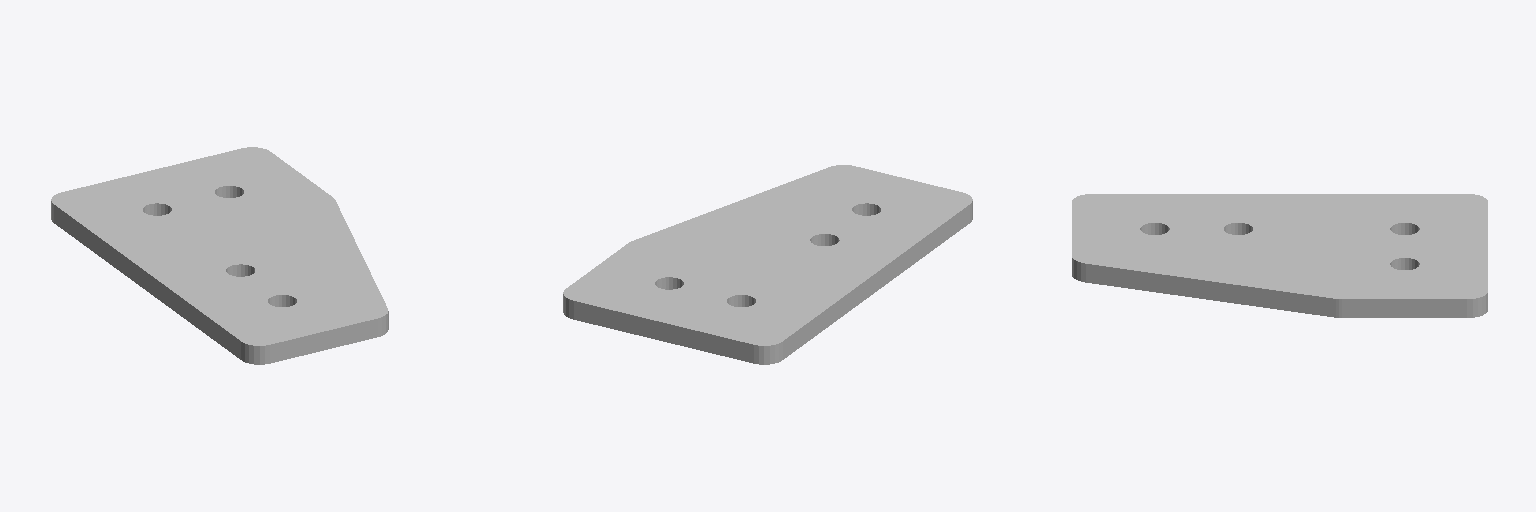
The model's file is _x1_1x1_Gusset_Plate_01__x1_1x1_Gusset_Plate.obj.
3 renders of one model, left to right at view 1: azimuth 30°, elevation 25°; view 2: azimuth 150°, elevation 25°; view 3: azimuth 270°, elevation 25°, orthographic.
Bounding box in the file's own units: 0.0381 × 0.0032 × 0.0635.